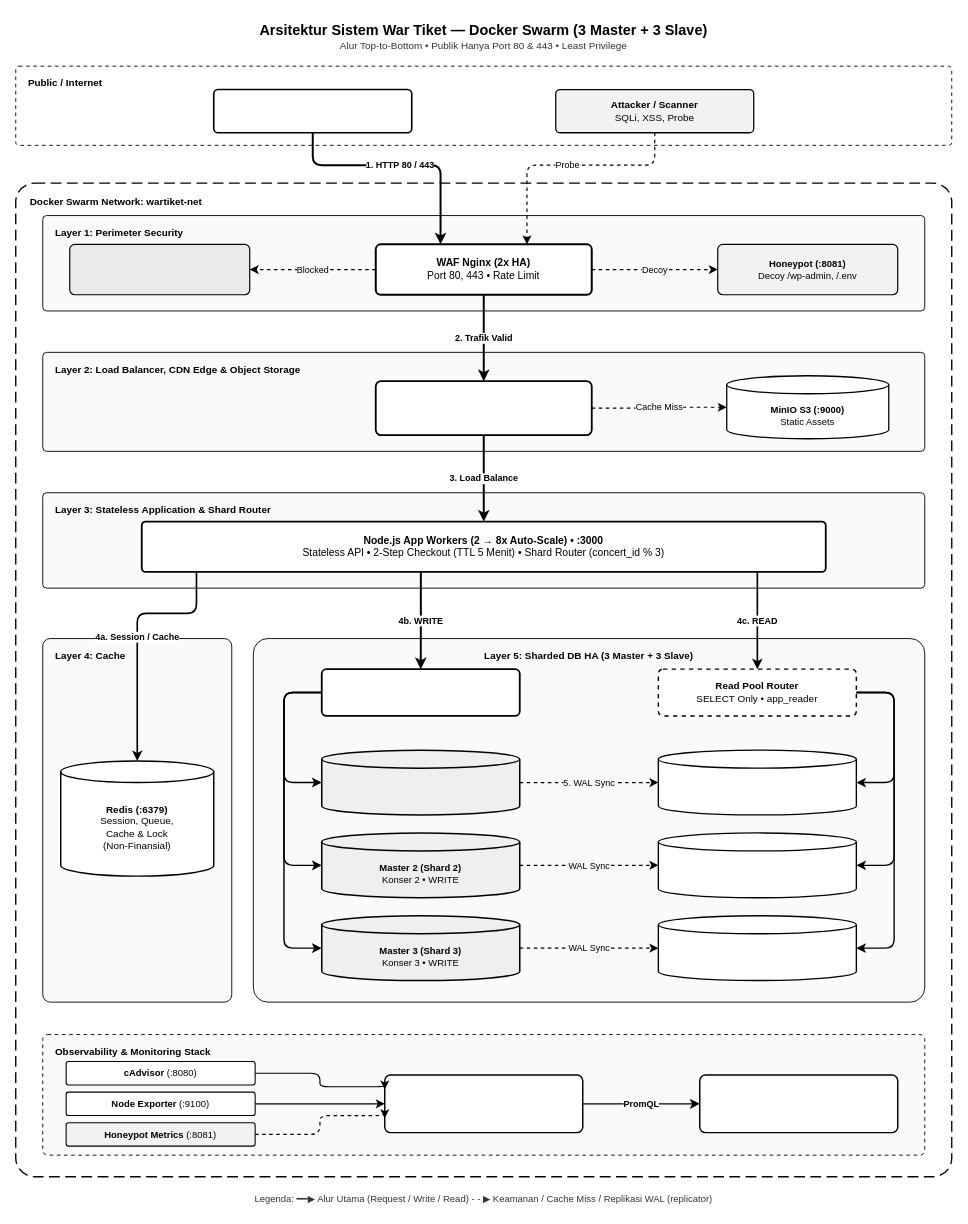
This 968x1224 diagram has some shape labels left out. The shapes that lost their labels are listed below. From the top down, each one's centre as x and y in pixels, then its label:
At (x=312, y=110): "Pembeli / Load Test (k6) 10 – 5.000 VU".
At (x=159, y=269): "HTTP 403 Blocked SQLi / XSS / LFI / Bot".
At (x=483, y=408): "Nginx LB + CDN Edge (2x) Reverse Proxy & Cache (:80)".
At (x=420, y=692): "PgBouncer (:5432) WRITE Pool • app_writer".
At (x=420, y=782): "Master 1 (Shard 1) Konser 1 • WRITE".
At (x=757, y=782): "Slave 1 (Replica 1) Konser 1 • READ".
At (x=757, y=865): "Slave 2 (Replica 2) Konser 2 • READ".
At (x=757, y=948): "Slave 3 (Replica 3) Konser 3 • READ".
At (x=483, y=1103): "Prometheus (:9090) Scrape Interval 5s".
At (x=798, y=1103): "Grafana (:3000) Dashboard Real-Time".
